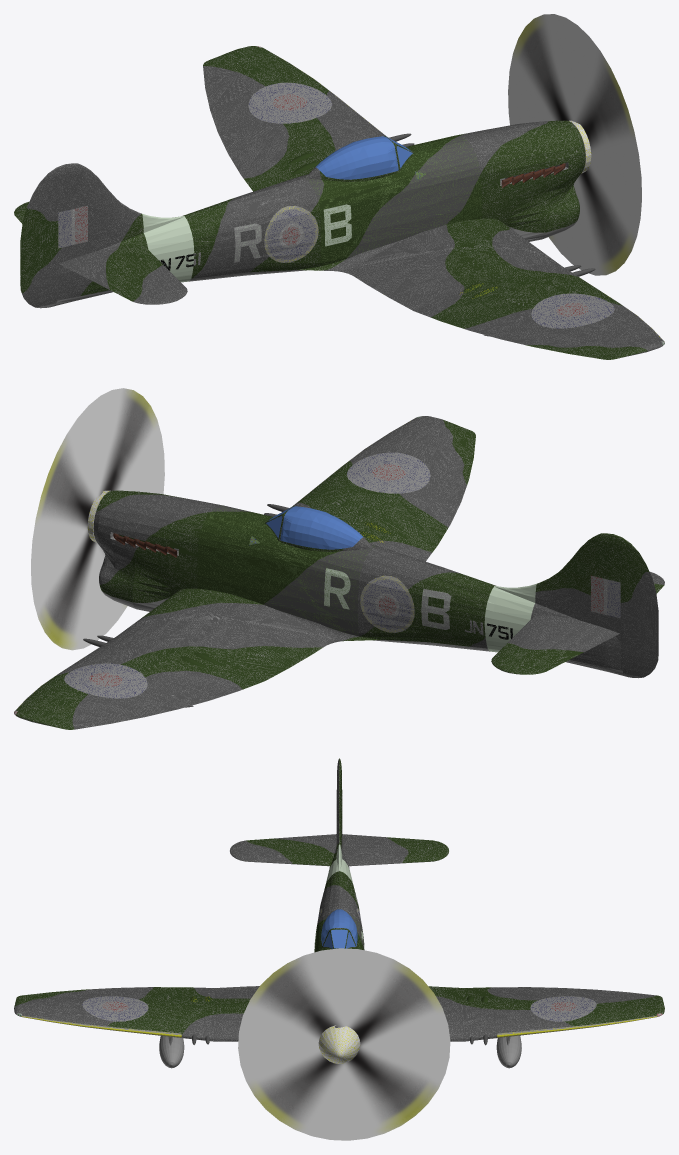
3 views of the same model, one above another, from view 1: azimuth 30°, elevation 25°; view 2: azimuth 150°, elevation 25°; view 3: azimuth 270°, elevation 25° (orthographic). The views are drawn at different scales.
Parts seen in each view (by area): view 1: mesh35.002_mesh35-geometry, mesh154.002_mesh154-geometry, mesh213.002_mesh213-geometry, mesh178.002_mesh178-geometry, mesh205.001_mesh205-geometry, mesh216.003_mesh216-geometry, mesh12.002_mesh12-geometry; view 2: mesh12.002_mesh12-geometry, mesh178.002_mesh178-geometry, mesh213.002_mesh213-geometry, mesh154.002_mesh154-geometry, mesh205.001_mesh205-geometry, mesh216.003_mesh216-geometry, mesh35.002_mesh35-geometry; view 3: mesh213.002_mesh213-geometry, mesh154.002_mesh154-geometry, mesh178.002_mesh178-geometry, mesh205.001_mesh205-geometry, mesh35.002_mesh35-geometry, mesh12.002_mesh12-geometry, mesh214.001_mesh214-geometry, mesh216.003_mesh216-geometry, mesh192.005_mesh192-geometry, mesh192.006_mesh192-geometry.
Boxes of the visible parts, bbox=[...] form: mesh35.002_mesh35-geometry: bbox=[20, 122, 585, 308]; mesh154.002_mesh154-geometry: bbox=[298, 218, 664, 359]; mesh213.002_mesh213-geometry: bbox=[508, 14, 641, 275]; mesh178.002_mesh178-geometry: bbox=[203, 46, 386, 191]; mesh205.001_mesh205-geometry: bbox=[14, 202, 187, 304]; mesh216.003_mesh216-geometry: bbox=[306, 136, 399, 181]; mesh12.002_mesh12-geometry: bbox=[20, 120, 570, 306]; mesh12.002_mesh12-geometry: bbox=[93, 492, 658, 678]; mesh178.002_mesh178-geometry: bbox=[14, 588, 380, 729]; mesh213.002_mesh213-geometry: bbox=[31, 388, 164, 650]; mesh154.002_mesh154-geometry: bbox=[292, 416, 475, 561]; mesh205.001_mesh205-geometry: bbox=[491, 572, 664, 674]; mesh216.003_mesh216-geometry: bbox=[279, 506, 372, 551]; mesh35.002_mesh35-geometry: bbox=[108, 490, 658, 676]; mesh213.002_mesh213-geometry: bbox=[238, 948, 450, 1140]; mesh154.002_mesh154-geometry: bbox=[14, 986, 259, 1041]; mesh178.002_mesh178-geometry: bbox=[429, 986, 664, 1041]; mesh205.001_mesh205-geometry: bbox=[230, 834, 448, 865]; mesh35.002_mesh35-geometry: bbox=[314, 759, 339, 952]; mesh12.002_mesh12-geometry: bbox=[339, 758, 364, 950]; mesh214.001_mesh214-geometry: bbox=[318, 1025, 360, 1063]; mesh216.003_mesh216-geometry: bbox=[321, 909, 357, 946]; mesh192.005_mesh192-geometry: bbox=[496, 1035, 521, 1068]; mesh192.006_mesh192-geometry: bbox=[159, 1036, 184, 1068].
Size of the model in its own units: 0.6177 by 0.2439 by 0.7476.
Materials: 48 (2 with a texture image).
